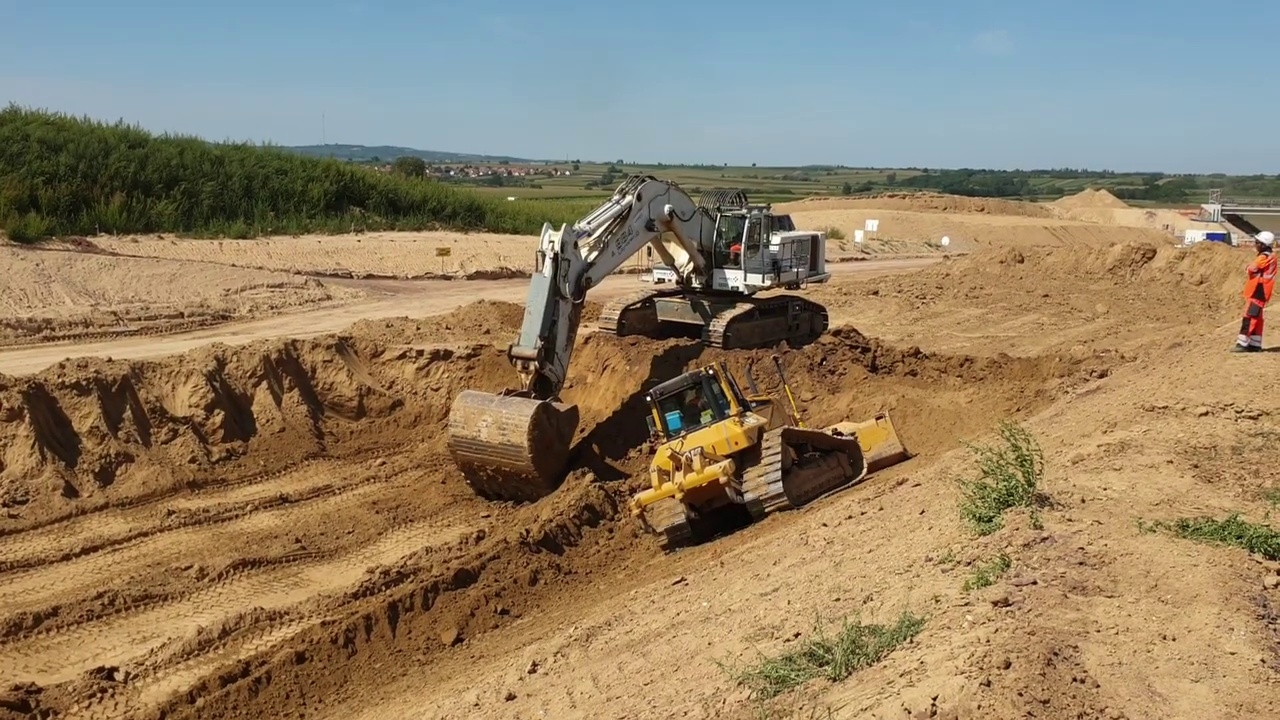bulldozer: (626, 348, 912, 552)
excavator: (443, 171, 832, 495)
worker: (1233, 226, 1280, 357)
